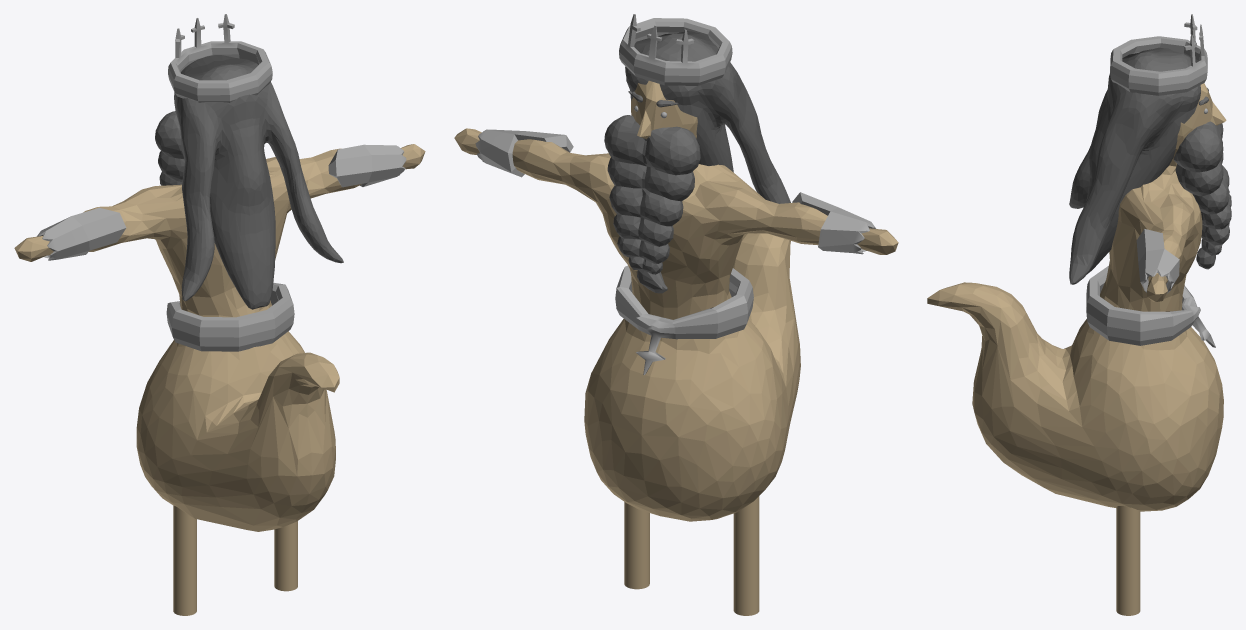
The model's file is exp_fbx.fbx.
3 renders of one model, left to right at view 1: azimuth 30°, elevation 25°; view 2: azimuth 150°, elevation 25°; view 3: azimuth 270°, elevation 25°, orthographic. The views are drawn at different scales.
Parts seen in each view (by area): view 1: body_low, hair_low1, polySurface2, pCylinder1; view 2: body_low, hair_low1, polySurface2, pCylinder1; view 3: body_low, hair_low1, polySurface2, pCylinder1.
Boxes of the visible parts, x1,y1,x2,y2 form: body_low: [14, 144, 425, 531]; hair_low1: [155, 55, 343, 309]; polySurface2: [37, 14, 406, 351]; pCylinder1: [173, 505, 297, 615]; body_low: [454, 80, 898, 521]; hair_low1: [604, 31, 790, 293]; polySurface2: [475, 14, 876, 374]; pCylinder1: [624, 496, 759, 615]; body_low: [927, 83, 1226, 511]; hair_low1: [1069, 47, 1231, 284]; polySurface2: [1086, 14, 1215, 347]; pCylinder1: [1116, 506, 1140, 615].
Size of the model in its own units: 4.14 by 5.4 by 2.65.
